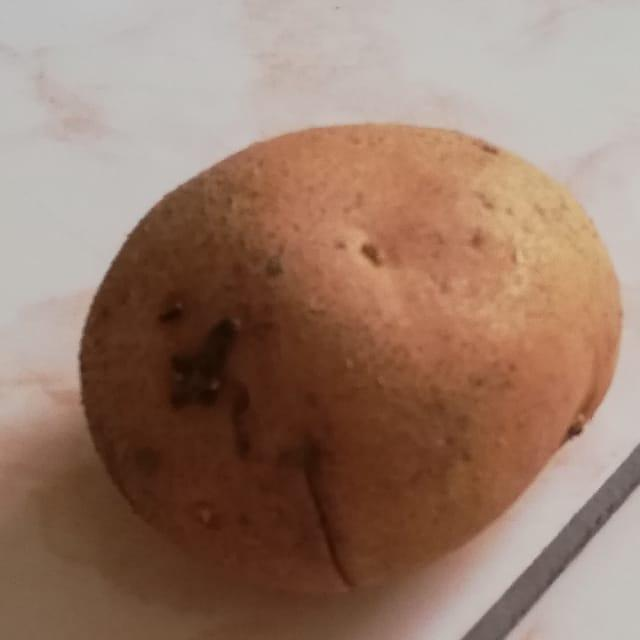potato: (65, 72, 640, 619)
